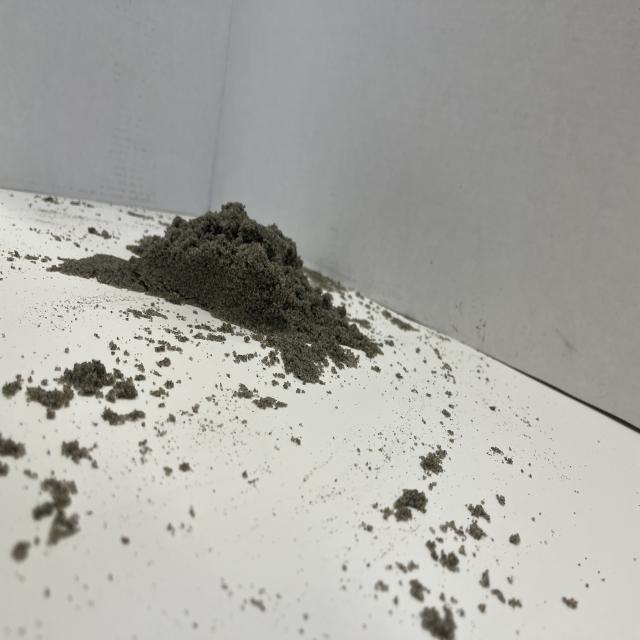sand: (60, 166, 412, 400)
